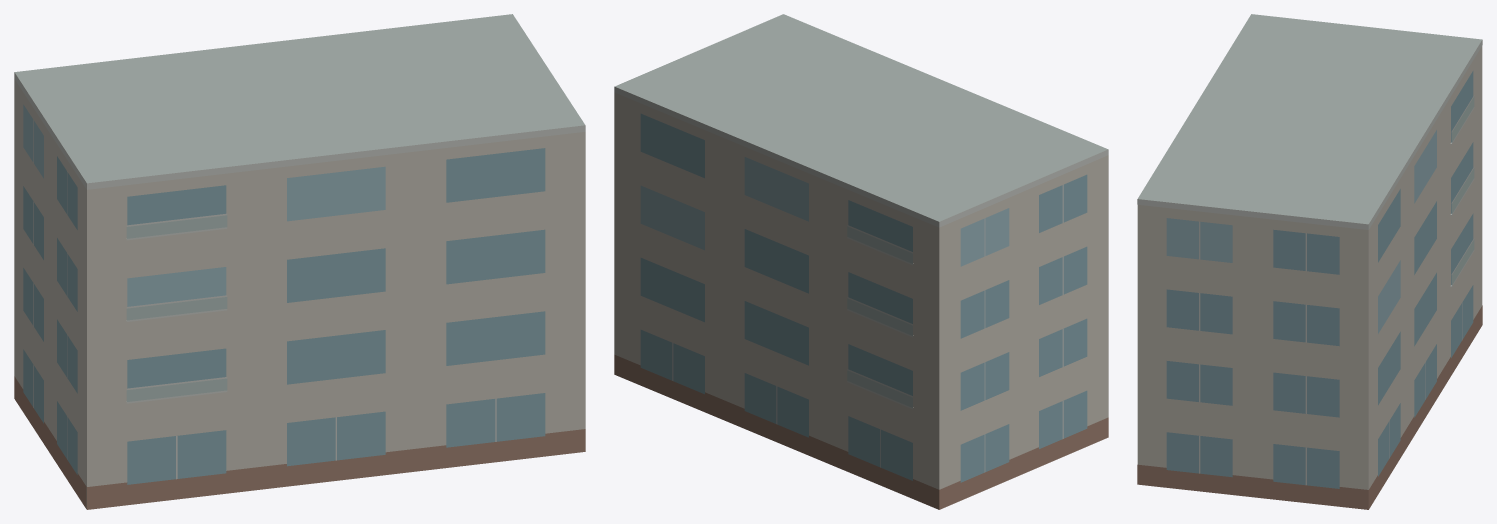
Rendered from residential-fe2e8140-f48b-48f5-823d-b1122b66cb5d.glb.
The picture shows the model from 3 angles, left to right: view 1: azimuth 30°, elevation 25°; view 2: azimuth 150°, elevation 25°; view 3: azimuth 270°, elevation 25°; orthographic projection. The views are drawn at different scales.
Visible parts, largest first — view 1: residential-fe2e8140-f48b-48f5-823d-b1122b66cb5d.tmp; view 2: residential-fe2e8140-f48b-48f5-823d-b1122b66cb5d.tmp; view 3: residential-fe2e8140-f48b-48f5-823d-b1122b66cb5d.tmp.
Part boxes in pixels (x1,y1,x2,y2): residential-fe2e8140-f48b-48f5-823d-b1122b66cb5d.tmp: [14, 14, 585, 509]; residential-fe2e8140-f48b-48f5-823d-b1122b66cb5d.tmp: [614, 14, 1108, 509]; residential-fe2e8140-f48b-48f5-823d-b1122b66cb5d.tmp: [1137, 14, 1482, 509].
Bounding box in the file's own units: 19.28 × 12.2 × 13.37.
